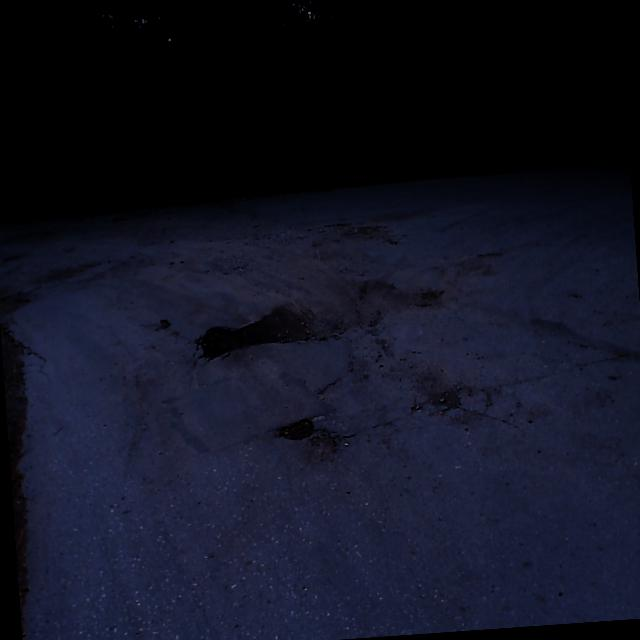road: (0, 160, 640, 640)
